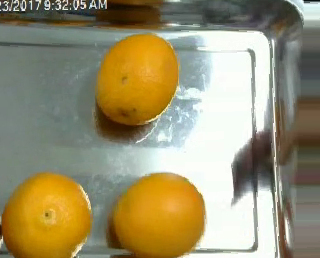Orange: (111, 171, 206, 257), (1, 171, 94, 257), (95, 34, 178, 126)
